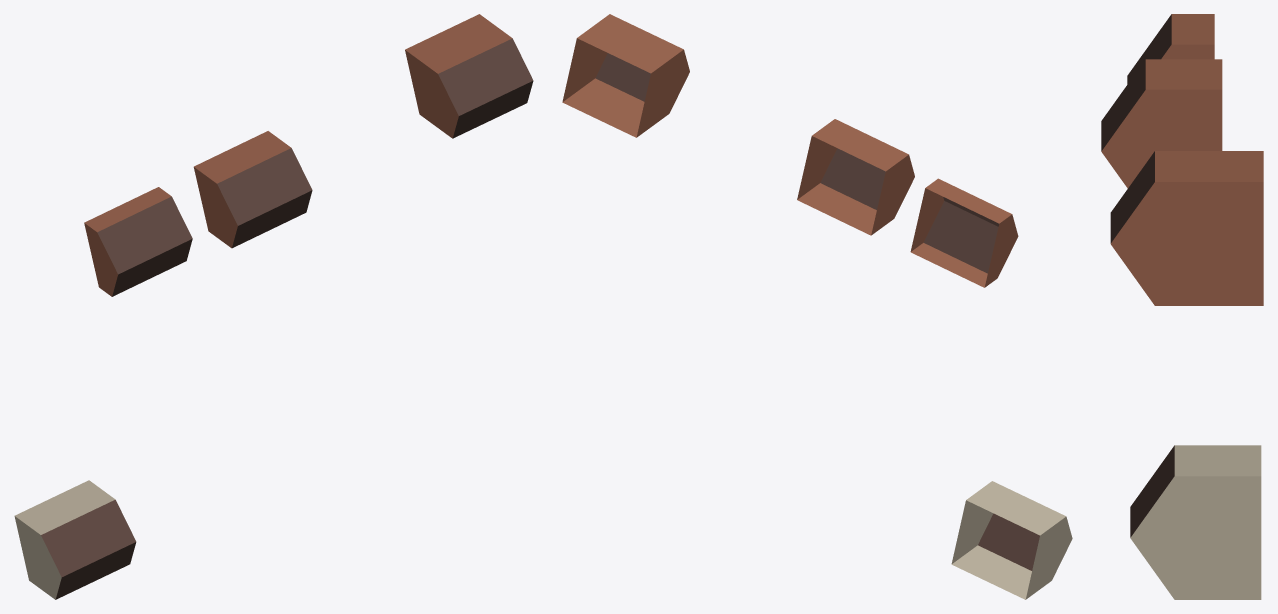
File: island_bldg_16_05.obj
3 renders of one model, left to right at view 1: azimuth 30°, elevation 25°; view 2: azimuth 150°, elevation 25°; view 3: azimuth 270°, elevation 25°, orthographic. The views are drawn at different scales.
Parts seen in each view (by area): view 1: island_bldg_16_05; view 2: island_bldg_16_05; view 3: island_bldg_16_05.
Boxes of the visible parts, left/top/right/bottom form: island_bldg_16_05: left=14, top=14, right=533, bottom=599; island_bldg_16_05: left=562, top=14, right=1072, bottom=599; island_bldg_16_05: left=1101, top=14, right=1263, bottom=599.
Size of the model in its own units: 100 by 91.15 by 17.94.
